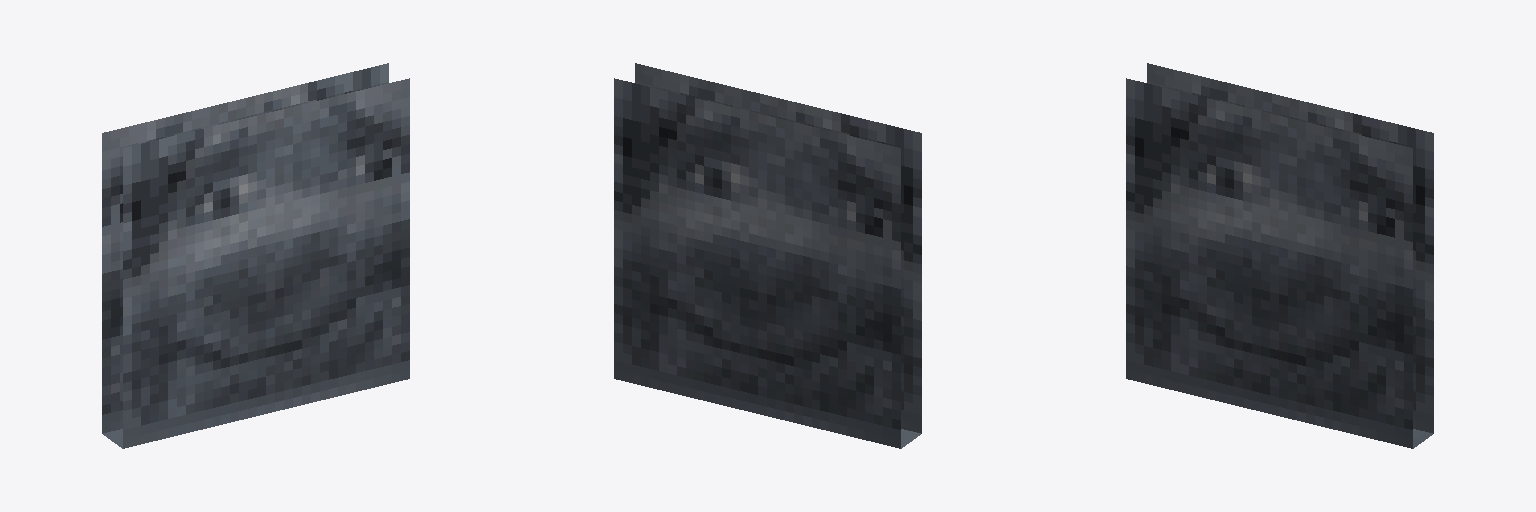
The picture shows the model from 3 angles: view 1: azimuth 30°, elevation 25°; view 2: azimuth 150°, elevation 25°; view 3: azimuth 330°, elevation 25°; orthographic projection.
Visible parts, largest first — view 1: Cube; view 2: Cube; view 3: Cube.
Part boxes in pixels (bbox=[...]): Cube: bbox=[102, 63, 409, 448]; Cube: bbox=[614, 63, 921, 448]; Cube: bbox=[1126, 63, 1433, 448].
Bounding box in the file's own units: 4 × 4 × 0.5.
1 materials, 1 textured.